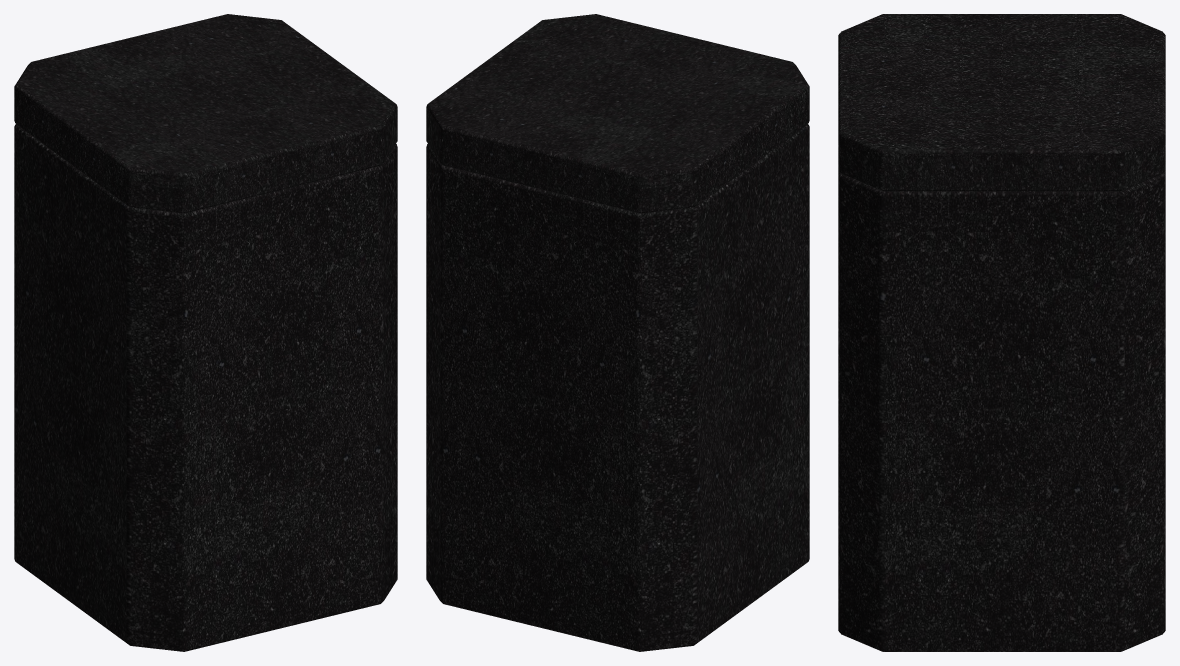
The model's file is Urn.gltf.
The picture shows the model from 3 angles, left to right: view 1: azimuth 30°, elevation 25°; view 2: azimuth 150°, elevation 25°; view 3: azimuth 270°, elevation 25°; orthographic projection. The views are drawn at different scales.
Parts seen in each view (by area): view 1: Cube.042, Cube.043; view 2: Cube.042, Cube.043; view 3: Cube.042, Cube.043.
Part boxes in pixels (<box>): Cube.042: <box>14,124,397,651</box>; Cube.043: <box>14,14,397,213</box>; Cube.042: <box>426,124,809,651</box>; Cube.043: <box>426,14,809,213</box>; Cube.042: <box>838,171,1165,651</box>; Cube.043: <box>838,14,1165,191</box>.
Size of the model in its own units: 0.13 by 0.22 by 0.13.
Materials: 1 (1 with a texture image).
